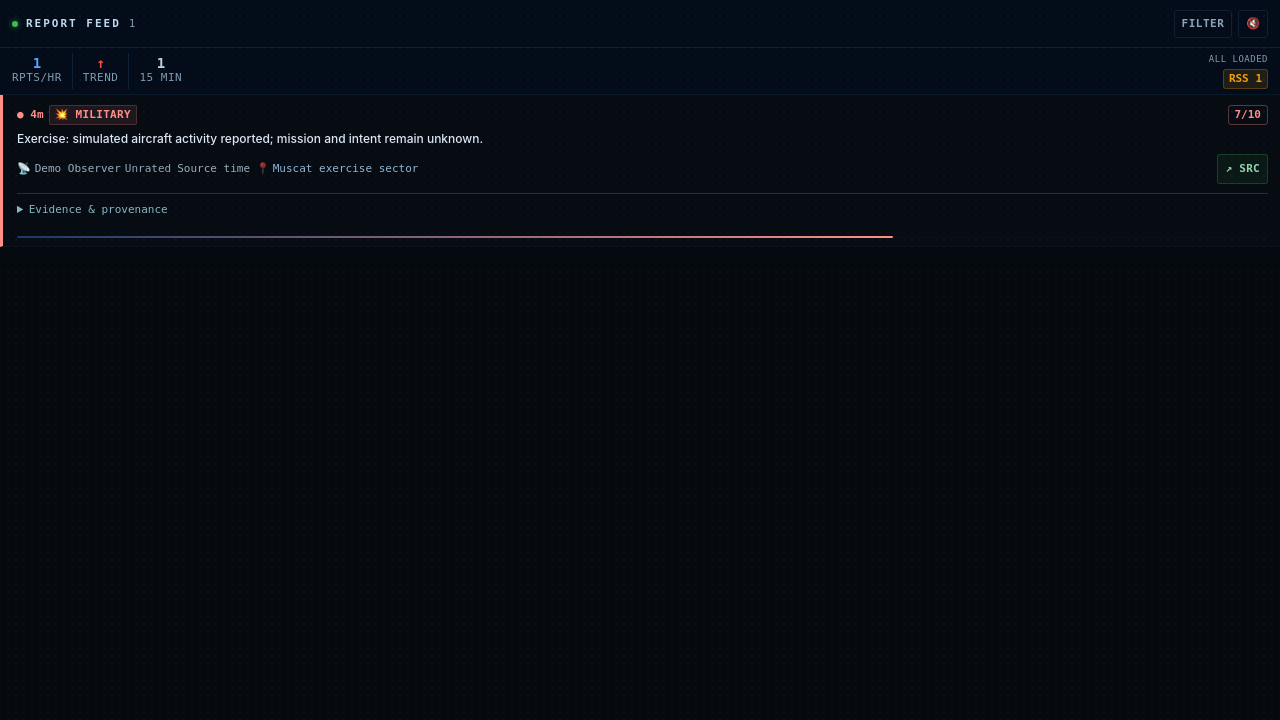
Test: free report integrity › attributes an empty feed to active filters (𝕏)
Click the button "FILTER" at (1203, 24), box [1174,10,1232,38]
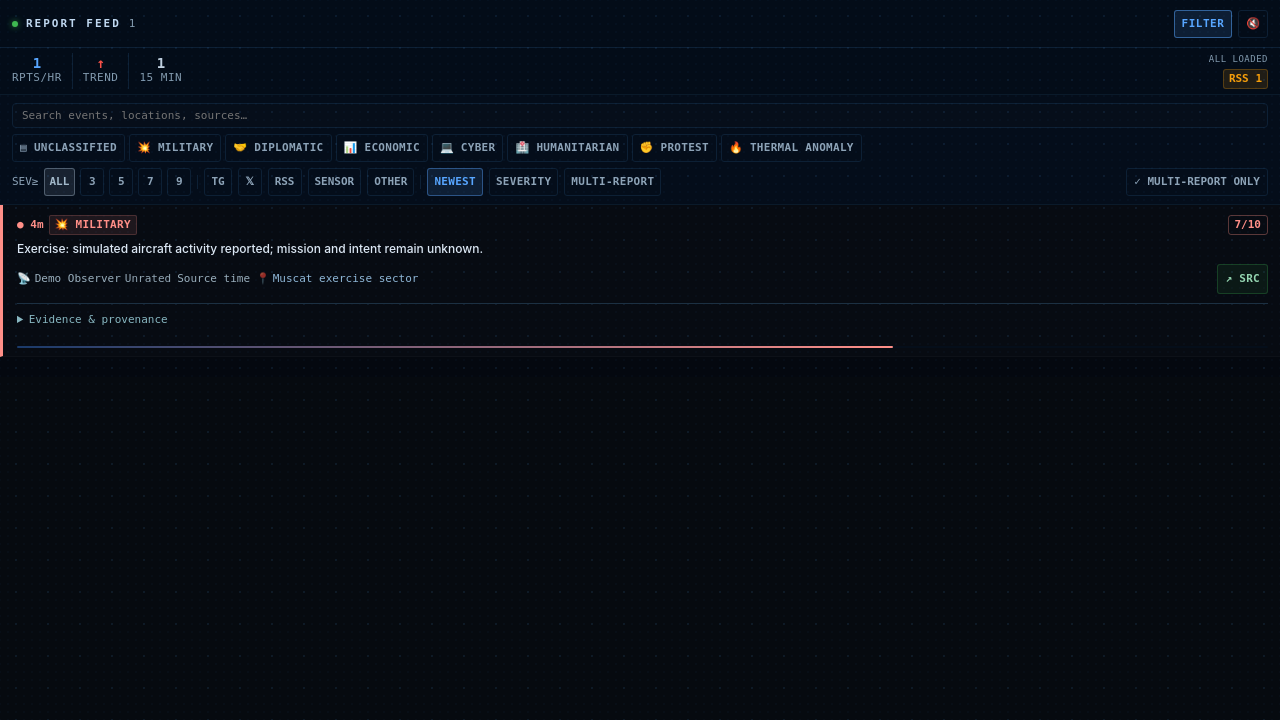
Click the button "𝕏" at (250, 182), box [238,168,262,196]
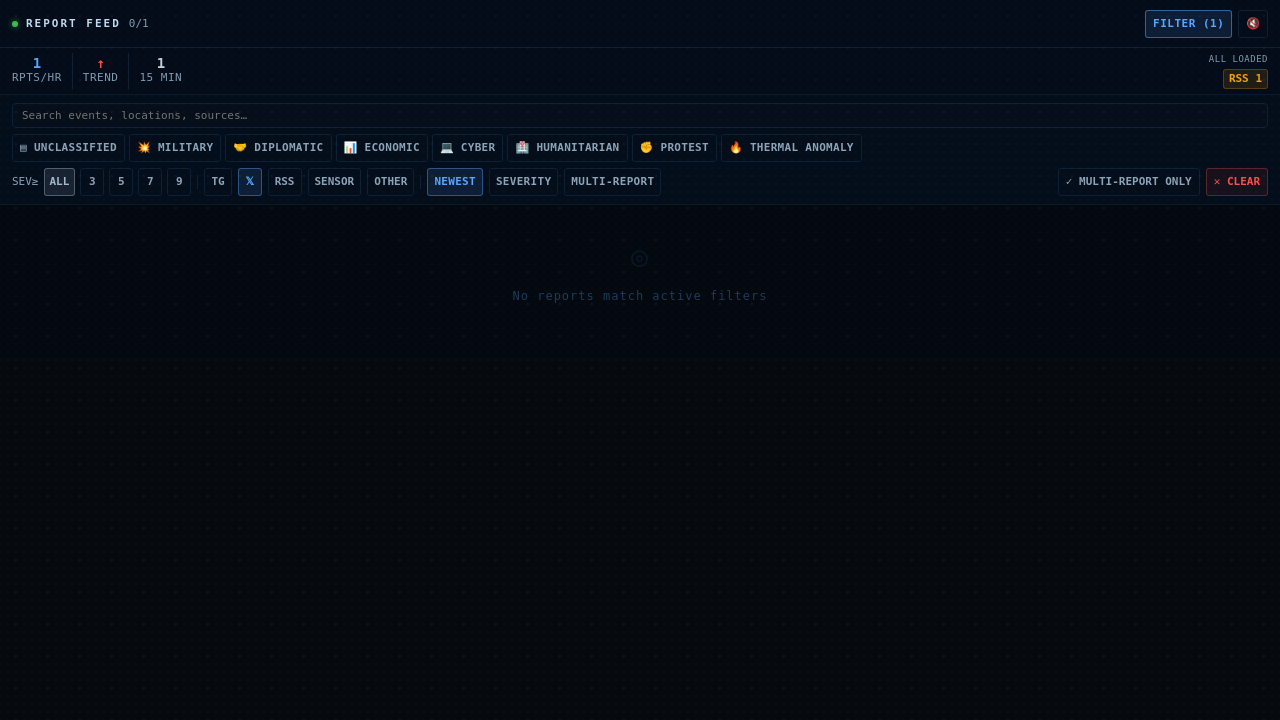
Now the text "No reports match active filters" is shown, box [512,289,768,303]
Click the button "𝕏" at (250, 182), box [238,168,262,196]
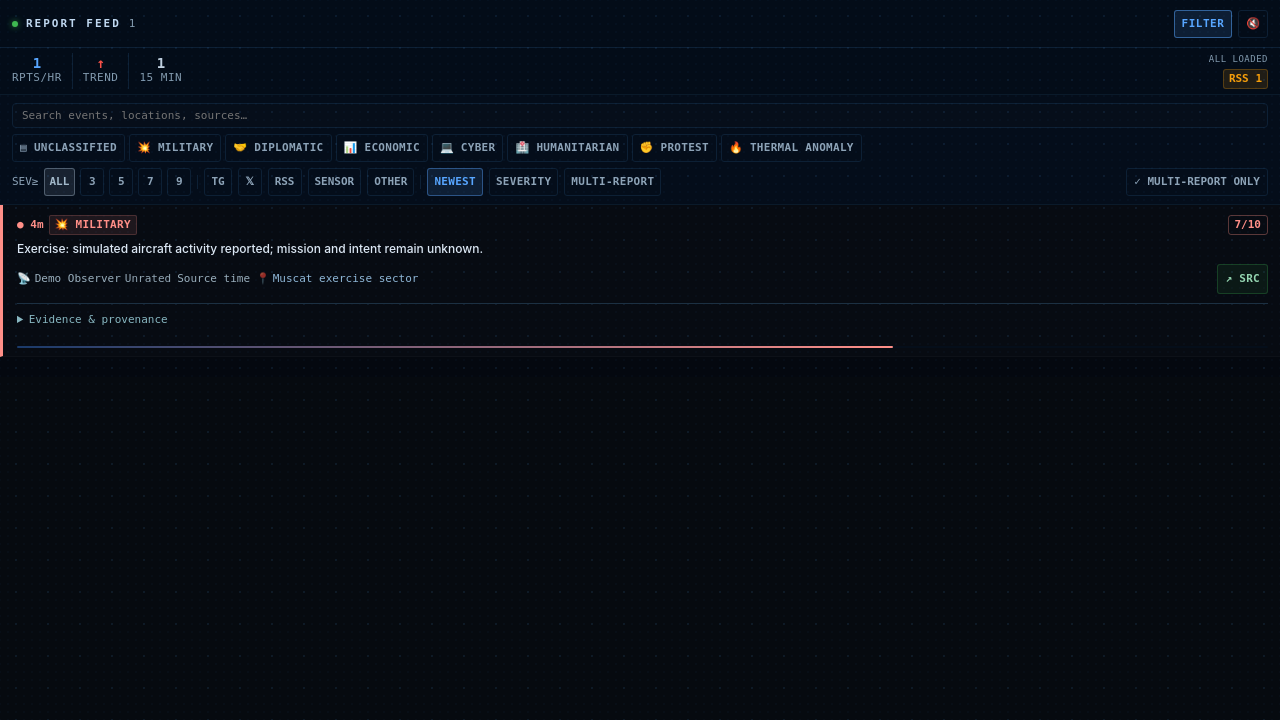
Now the number of elements with class "intel-card" is 1, box [0,205,1279,357]
